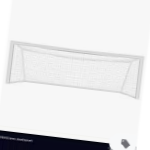goals: (4, 39, 145, 102)
